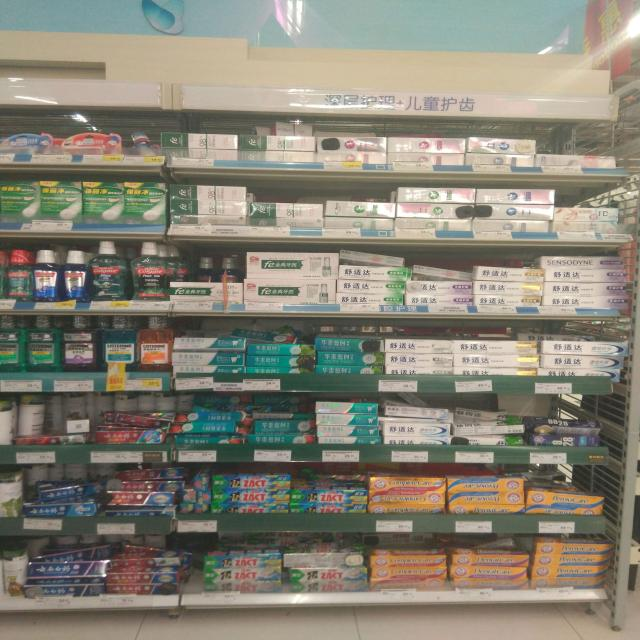unorganised: (28, 547, 110, 580), (537, 339, 630, 368), (169, 407, 252, 437), (109, 466, 188, 495), (252, 405, 314, 436), (110, 543, 183, 568), (48, 394, 90, 437), (103, 407, 173, 430), (284, 549, 364, 569), (35, 481, 109, 501), (230, 326, 299, 346), (337, 247, 409, 266), (195, 254, 239, 284), (410, 263, 473, 283), (255, 119, 317, 138), (18, 394, 46, 436)
